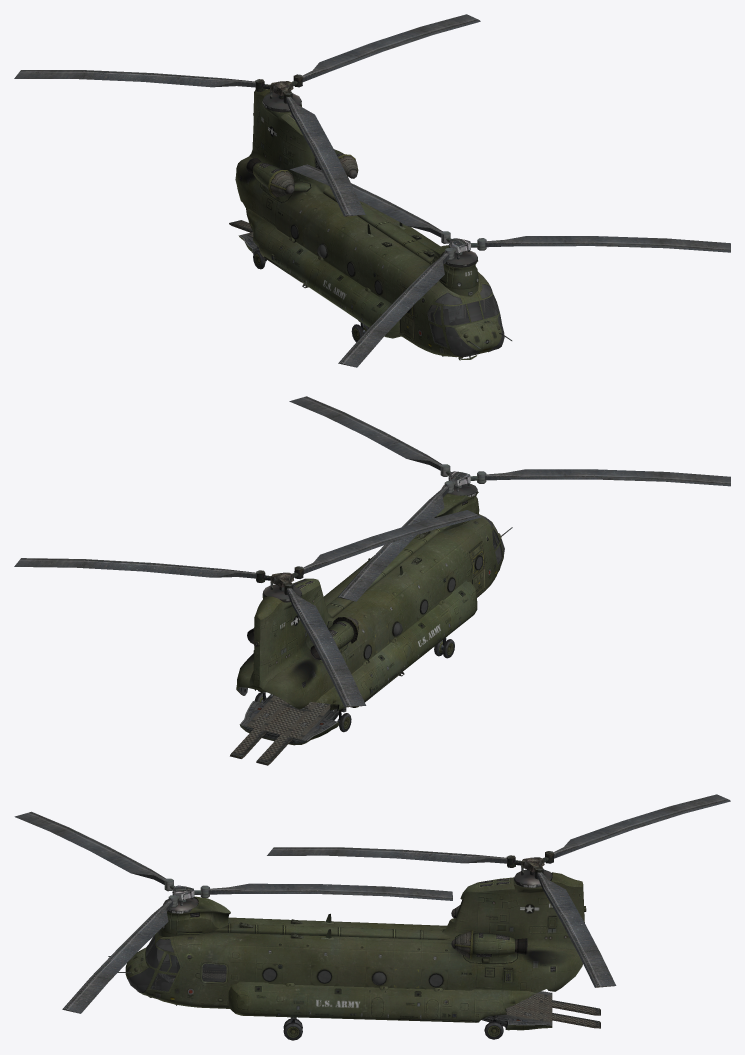
Rendered from airplane_boeing.glb.
3 views of the same model, one above another, from view 1: azimuth 30°, elevation 25°; view 2: azimuth 150°, elevation 25°; view 3: azimuth 270°, elevation 25° (orthographic).
Parts seen in each view (by area): view 1: Object_3, Object_7, Object_6, Object_2, Object_8, Object_9; view 2: Object_3, Object_7, Object_6, Object_5, Object_9, Object_2, Object_8; view 3: Object_3, Object_7, Object_6, Object_2, Object_5, Object_9, Object_8.
Part boxes in pixels (x1=…): Object_3: x1=235, y1=89, x2=512, y2=360; Object_7: x1=14, y1=14, x2=480, y2=216; Object_6: x1=290, y1=164, x2=730, y2=367; Object_2: x1=291, y1=225, x2=504, y2=356; Object_8: x1=255, y1=74, x2=361, y2=216; Object_9: x1=338, y1=231, x2=486, y2=367; Object_3: x1=230, y1=483, x2=512, y2=765; Object_7: x1=14, y1=510, x2=481, y2=706; Object_6: x1=289, y1=396, x2=730, y2=601; Object_5: x1=231, y1=688, x2=330, y2=765; Object_9: x1=338, y1=464, x2=486, y2=600; Object_2: x1=365, y1=516, x2=504, y2=658; Object_8: x1=256, y1=566, x2=361, y2=707; Object_3: x1=108, y1=869, x2=600, y2=1040; Object_7: x1=267, y1=794, x2=730, y2=987; Object_6: x1=14, y1=811, x2=452, y2=1013; Object_2: x1=127, y1=935, x2=442, y2=992; Object_5: x1=203, y1=973, x2=600, y2=1028; Object_9: x1=62, y1=878, x2=452, y2=1013; Object_8: x1=506, y1=851, x2=614, y2=987.
Bounding box in the file's own units: 213 × 77.21 × 313.
8 materials, 8 textured.
